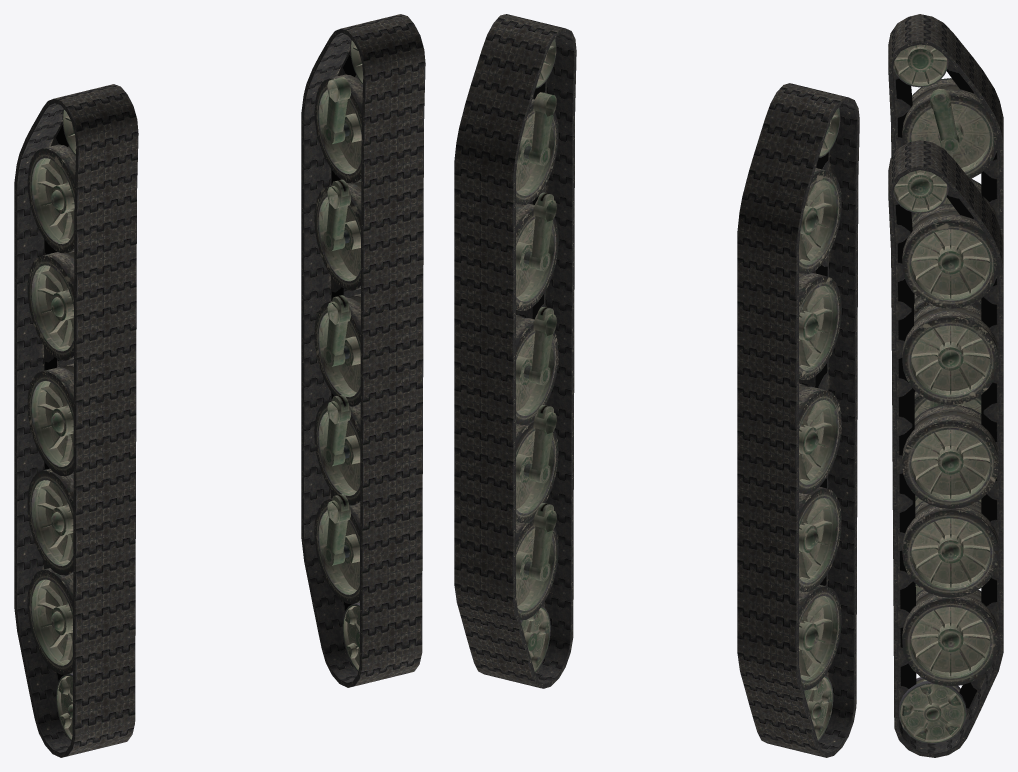
The model's file is Chassis.glb.
3 renders of one model, left to right at view 1: azimuth 30°, elevation 25°; view 2: azimuth 150°, elevation 25°; view 3: azimuth 270°, elevation 25°, orthographic. The views are drawn at different scales.
Parts seen in each view (by area): view 1: set_1_group_0, set_0_group_0, set_3_group_0, set_2_group_0; view 2: set_1_group_0, set_0_group_0, set_3_group_0, set_2_group_0; view 3: set_3_group_0, set_0_group_0, set_2_group_0, set_1_group_0.
Part boxes in pixels (x1=…): set_1_group_0: x1=14, y1=84, x2=138, y2=757; set_0_group_0: x1=301, y1=14, x2=425, y2=687; set_3_group_0: x1=314, y1=39, x2=363, y2=671; set_2_group_0: x1=27, y1=109, x2=76, y2=740; set_1_group_0: x1=737, y1=83, x2=859, y2=757; set_0_group_0: x1=454, y1=14, x2=576, y2=688; set_3_group_0: x1=516, y1=38, x2=558, y2=671; set_2_group_0: x1=799, y1=107, x2=841, y2=740; set_3_group_0: x1=893, y1=170, x2=998, y2=743; set_0_group_0: x1=888, y1=140, x2=1003, y2=757; set_2_group_0: x1=893, y1=44, x2=998, y2=594; set_1_group_0: x1=888, y1=14, x2=1003, y2=391.
Bounding box in the file's own units: 2.9 × 5.26 × 0.9291.
4 materials, 4 textured.
